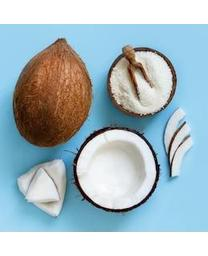coconut: (13, 37, 93, 148), (73, 127, 161, 212)
